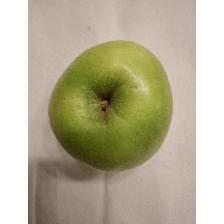Apfel: (47, 37, 175, 174)
